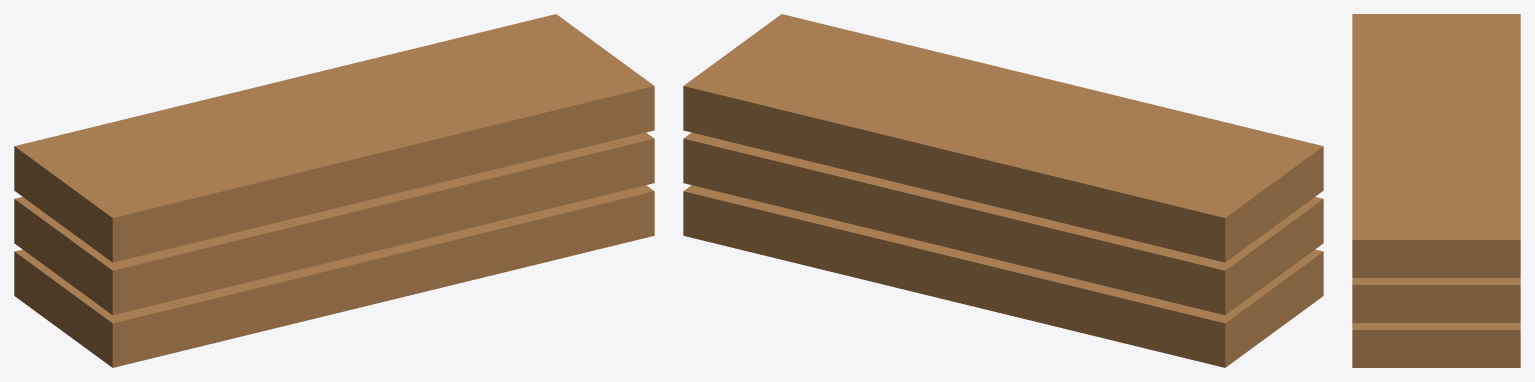
Rendered from plank.glb.
The picture shows the model from 3 angles, left to right: view 1: azimuth 30°, elevation 25°; view 2: azimuth 150°, elevation 25°; view 3: azimuth 270°, elevation 25°; orthographic projection. The views are drawn at different scales.
Parts seen in each view (by area): view 1: Plank2, Plank0, Plank1; view 2: Plank2, Plank0, Plank1; view 3: Plank2, Plank0, Plank1.
Boxes of the visible parts, x1=… form: Plank2: x1=14, y1=14, x2=654, y2=262; Plank0: x1=14, y1=185, x2=654, y2=367; Plank1: x1=14, y1=132, x2=654, y2=315; Plank2: x1=683, y1=14, x2=1323, y2=262; Plank0: x1=683, y1=185, x2=1323, y2=367; Plank1: x1=683, y1=132, x2=1323, y2=315; Plank2: x1=1352, y1=14, x2=1520, y2=277; Plank0: x1=1352, y1=323, x2=1520, y2=367; Plank1: x1=1352, y1=278, x2=1520, y2=322.
Bounding box in the file's own units: 0.7 × 0.185 × 0.22.
